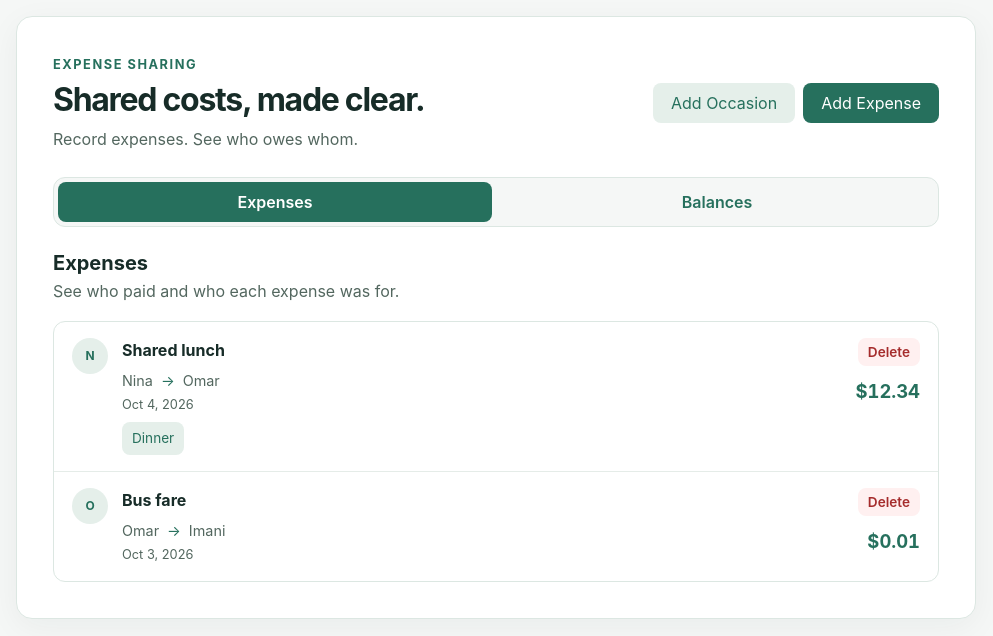
Scenario: expense sharing views › balances › shows a useful error after network failure
This screenshot has width=993, height=636.
expect the list named "Expenses" is shown: met, box top-left (53, 321), bottom-right (939, 582)
Click the tab "Balances". click: (717, 202)
box: top-left (500, 182), bottom-right (934, 222)
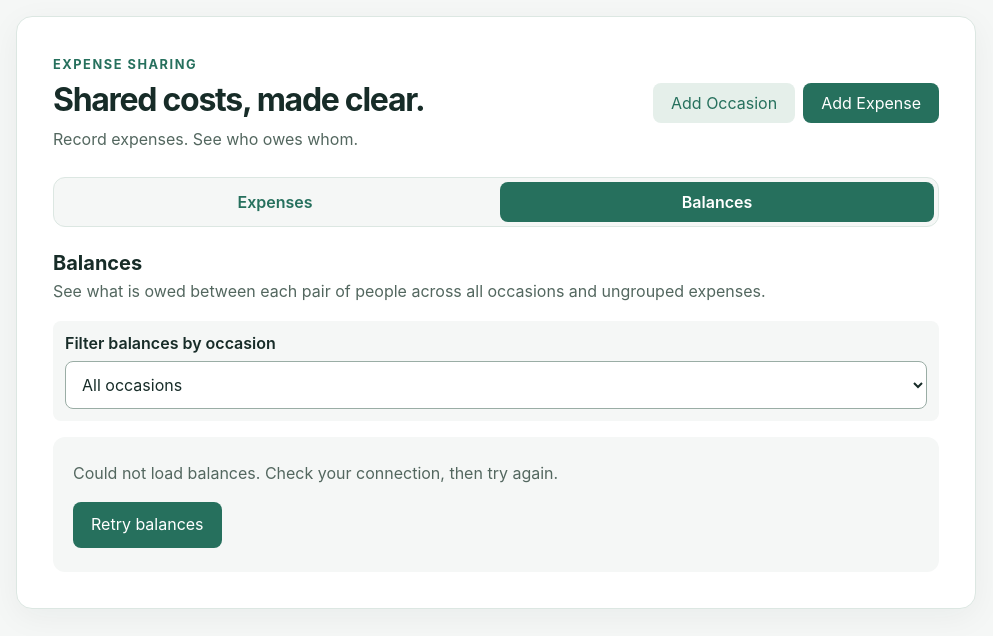
expect the list is gone: met
